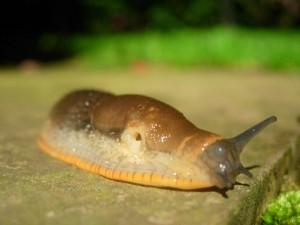slug: (27, 39, 277, 207)
